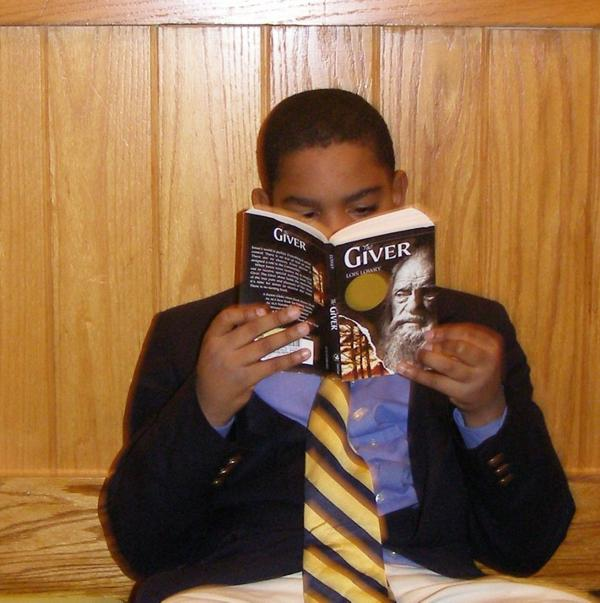person: (96, 89, 575, 603)
